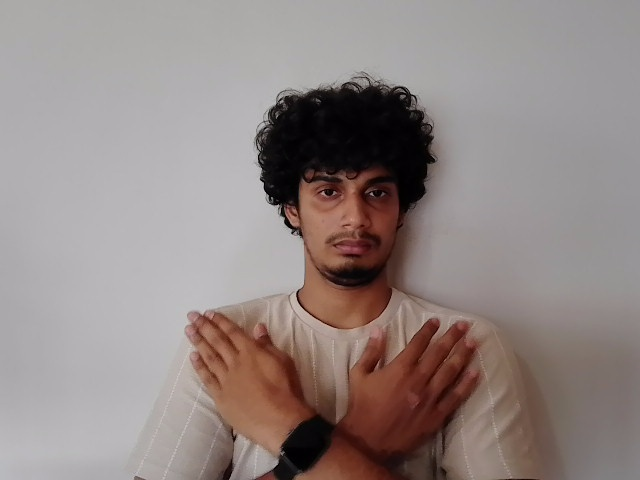relaxing: (187, 308, 491, 467)
